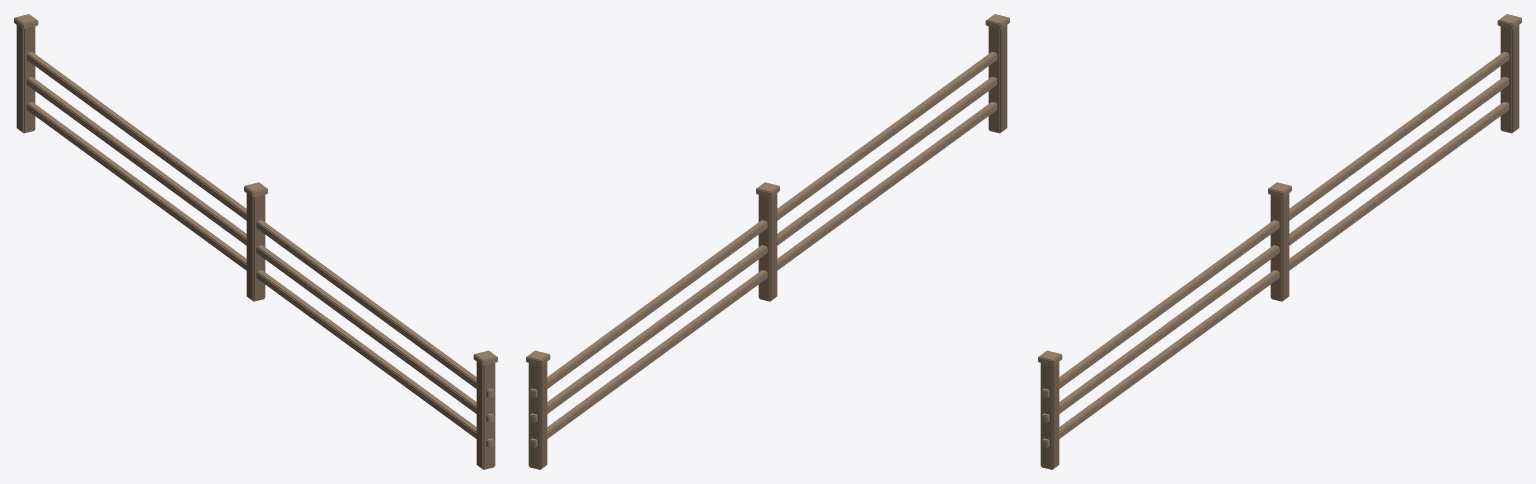
Rendered from fence.glb.
3 views of the same model, side by side, from view 1: azimuth 30°, elevation 25°; view 2: azimuth 150°, elevation 25°; view 3: azimuth 330°, elevation 25° (orthographic).
Visible parts, largest first — view 1: Rail_Hi, Rail_Lo, Rail_Mid, Post_0, Post_1, Post_2; view 2: Rail_Hi, Rail_Lo, Rail_Mid, Post_2, Post_1, Post_0; view 3: Rail_Hi, Rail_Lo, Rail_Mid, Post_0, Post_1, Post_2.
Boxes of the visible parts, <box> form: Rail_Hi: <box>26,52,494,397</box>; Rail_Lo: <box>26,102,494,447</box>; Rail_Mid: <box>26,77,494,422</box>; Post_0: <box>476,362,495,469</box>; Post_1: <box>246,193,265,301</box>; Post_2: <box>16,25,35,133</box>; Rail_Hi: <box>529,52,997,397</box>; Rail_Lo: <box>529,102,997,447</box>; Rail_Mid: <box>529,77,997,422</box>; Post_2: <box>528,362,547,469</box>; Post_1: <box>758,193,777,301</box>; Post_0: <box>988,25,1007,133</box>; Rail_Hi: <box>1041,52,1509,397</box>; Rail_Lo: <box>1041,102,1509,447</box>; Rail_Mid: <box>1041,77,1509,422</box>; Post_0: <box>1040,362,1059,469</box>; Post_1: <box>1270,193,1289,301</box>; Post_2: <box>1500,25,1519,133</box>.
Bounding box in the file's own units: 0.2 × 1.33 × 10.25.
